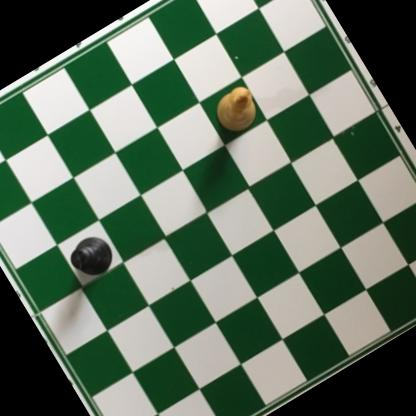black-king: (62, 226, 121, 285)
white-king: (206, 81, 266, 140)
